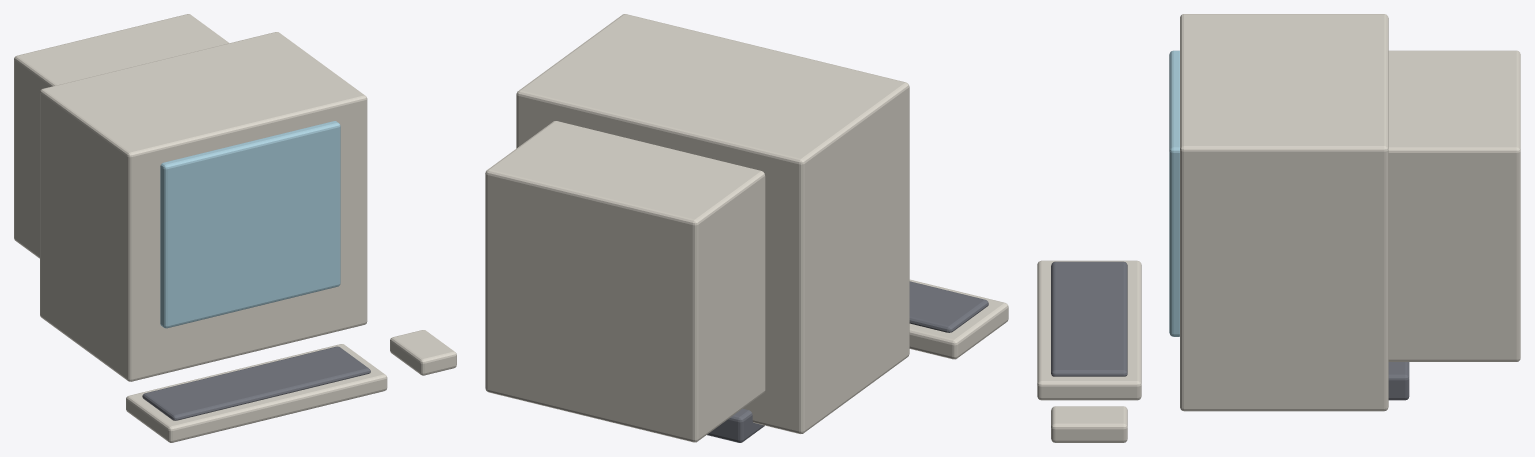
The model's file is OldPC.fbx.
The picture shows the model from 3 angles, left to right: view 1: azimuth 30°, elevation 25°; view 2: azimuth 150°, elevation 25°; view 3: azimuth 270°, elevation 25°; orthographic projection. The views are drawn at different scales.
Parts seen in each view (by area): view 1: OldPC; view 2: OldPC; view 3: OldPC.
Boxes of the visible parts, box(x1,y1,x2,y2) form: OldPC: box(14, 14, 456, 442); OldPC: box(485, 14, 1008, 442); OldPC: box(1037, 14, 1520, 442).
Bounding box in the file's own units: 0.565 × 0.44 × 0.695.
